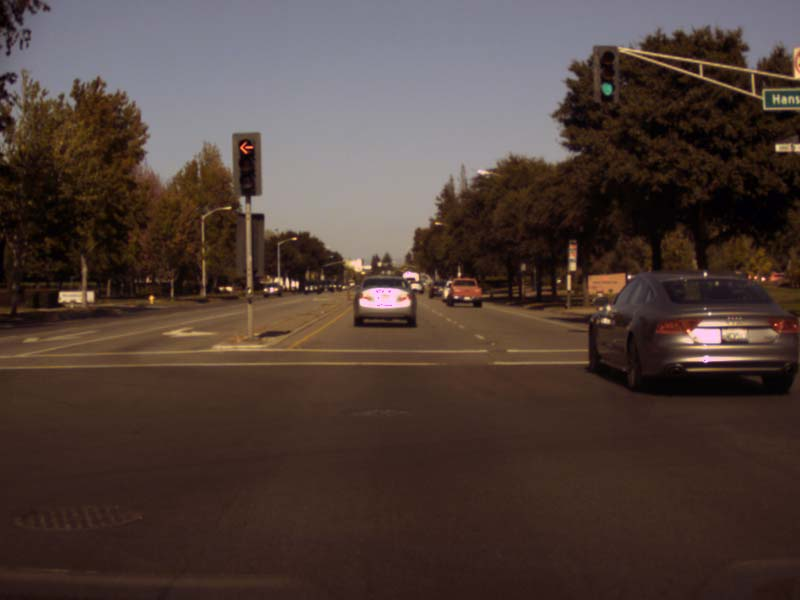Green: (592, 45, 618, 102)
Red: (232, 132, 261, 194)
